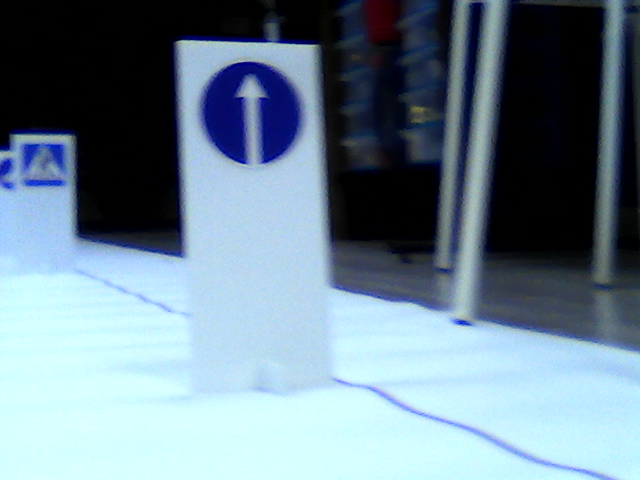forw: (195, 58, 301, 167)
pesh: (21, 142, 66, 188)
